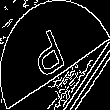P_SE: (33, 24, 77, 86)
